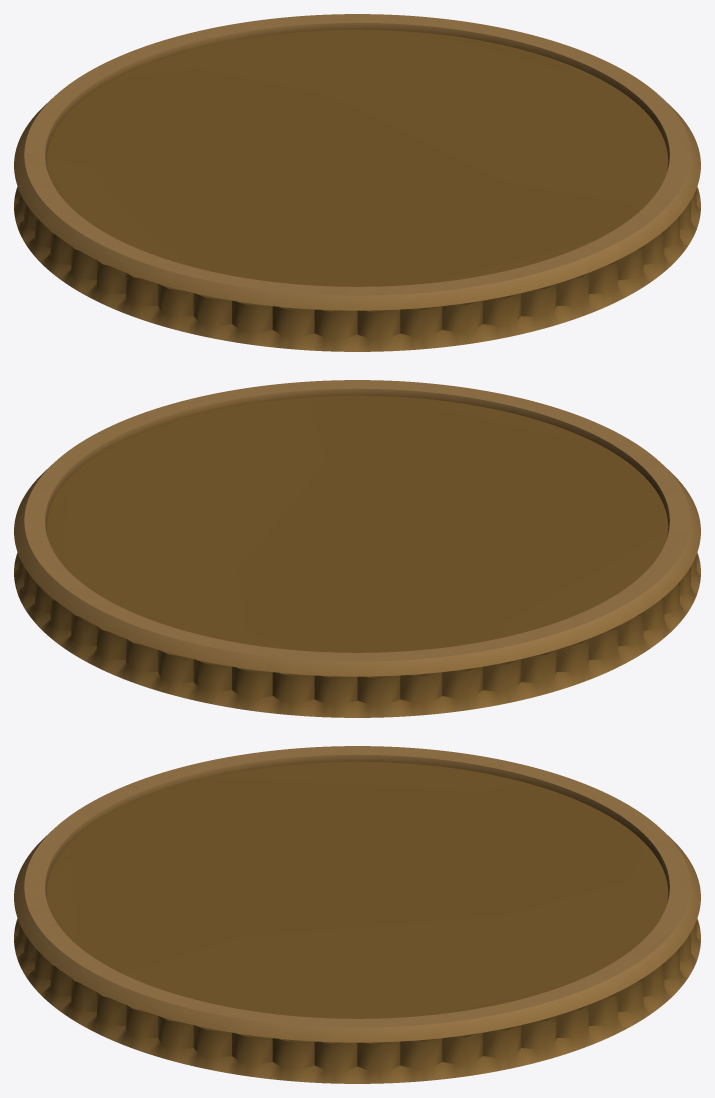
File: city_plinth_blank.glb
3 views of the same model, one above another, from view 1: azimuth 30°, elevation 25°; view 2: azimuth 150°, elevation 25°; view 3: azimuth 270°, elevation 25° (orthographic).
Parts seen in each view (by area): view 1: Plinth_Body; view 2: Plinth_Body; view 3: Plinth_Body.
Boxes of the visible parts, x1,y1,x2,y2 form: Plinth_Body: (14,14,700,351); Plinth_Body: (14,380,700,717); Plinth_Body: (14,746,700,1083).
Size of the model in its own units: 1.99 by 0.18 by 1.99.
